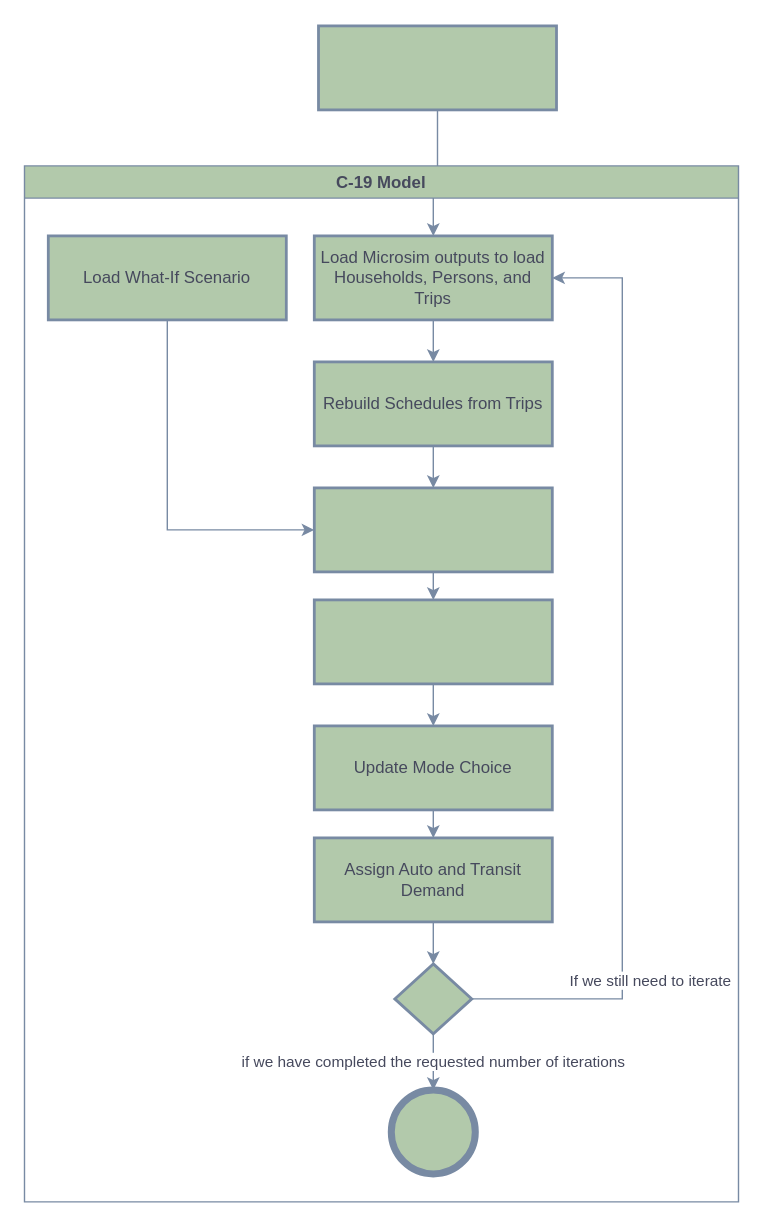
Image size: 763x1226. Some labels were removed from this diagram. Each missing label, with the centre of its shape:
"Randomly modify schdules by removing activities" goes at point (432, 529).
"Run Standard GTAModel" goes at point (436, 67).
"Update location choice" goes at point (432, 641).
